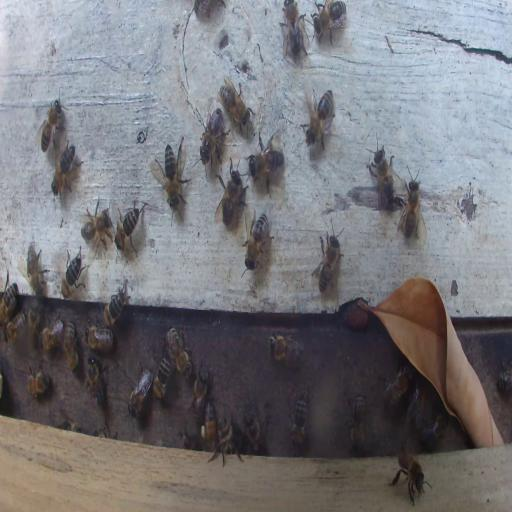nonpollenbee: (311, 218, 345, 295), (154, 139, 190, 211), (366, 135, 399, 210), (389, 445, 429, 505), (246, 131, 284, 192), (216, 157, 248, 229), (396, 169, 425, 242), (303, 86, 335, 152), (80, 199, 114, 252), (280, 1, 309, 62), (51, 142, 82, 198), (113, 203, 145, 257), (210, 417, 243, 468), (242, 212, 270, 270), (200, 108, 228, 166), (312, 1, 347, 45), (219, 78, 251, 125), (101, 281, 130, 329), (165, 326, 193, 375), (382, 365, 410, 411), (62, 247, 86, 299), (25, 244, 48, 297), (40, 99, 62, 153), (288, 387, 308, 446), (268, 332, 302, 366), (128, 365, 150, 416), (191, 363, 208, 423), (25, 362, 50, 400), (86, 358, 105, 407), (350, 394, 366, 452), (40, 314, 64, 351), (0, 277, 18, 326), (406, 384, 427, 426), (153, 353, 171, 401), (85, 324, 114, 353), (422, 415, 446, 450), (63, 321, 78, 374), (4, 309, 26, 344), (244, 412, 260, 450), (27, 304, 40, 348), (498, 360, 511, 396)
pollenbee: (201, 398, 219, 451)
